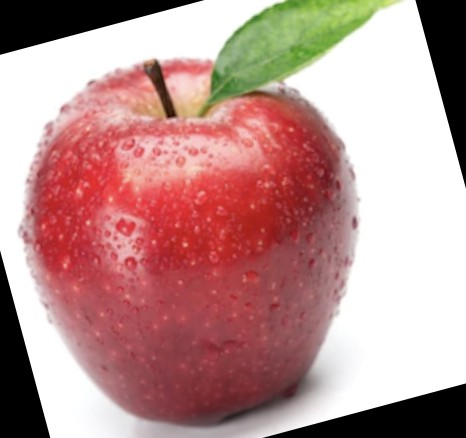fresh_apple: (23, 58, 357, 425)
